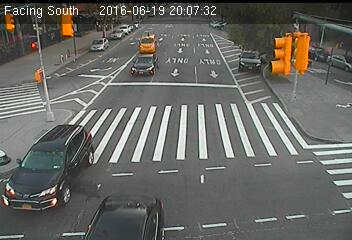neg: (65, 16, 80, 36), (25, 34, 40, 54)
